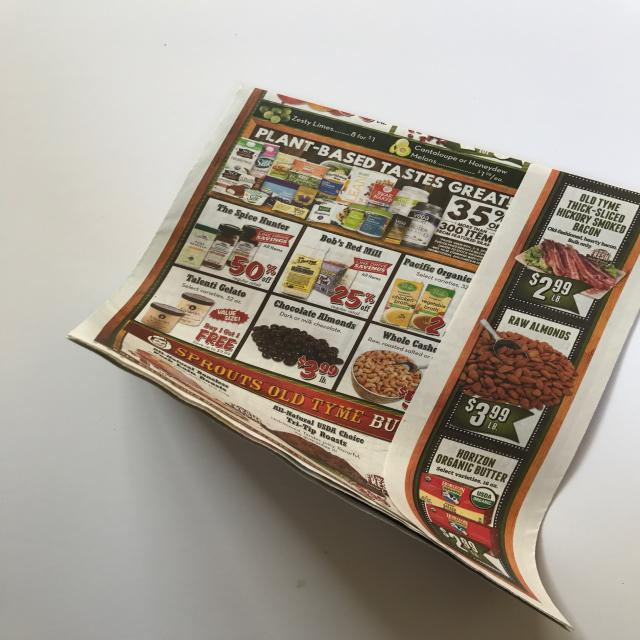paper: (66, 81, 640, 628)
